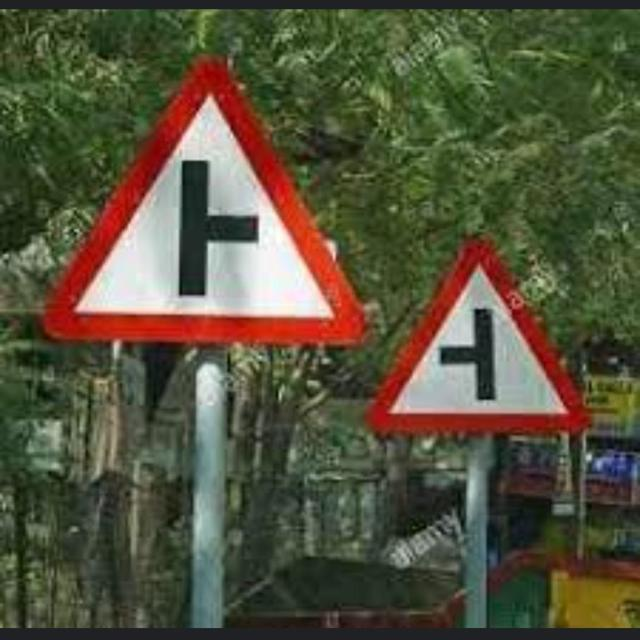Sideroad_toleft: (363, 233, 589, 435)
Sideroad_toright: (45, 53, 373, 342)
